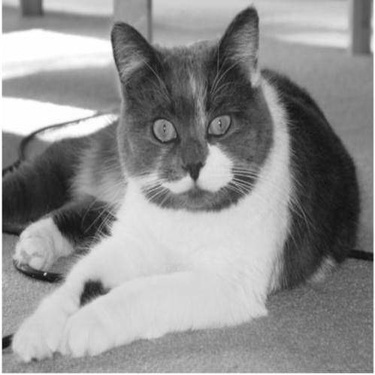cat: (1, 18, 368, 350)
